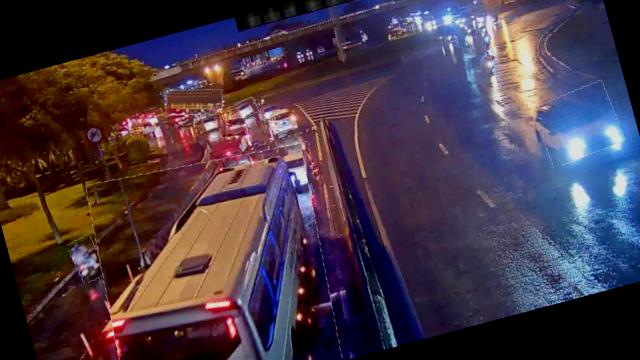Bike: (66, 234, 106, 284)
Bus: (74, 133, 353, 360)
Car: (530, 80, 624, 166), (272, 138, 316, 186), (228, 97, 258, 122), (218, 114, 248, 138), (166, 108, 196, 130), (196, 112, 222, 132)
Truck: (163, 80, 226, 124)
